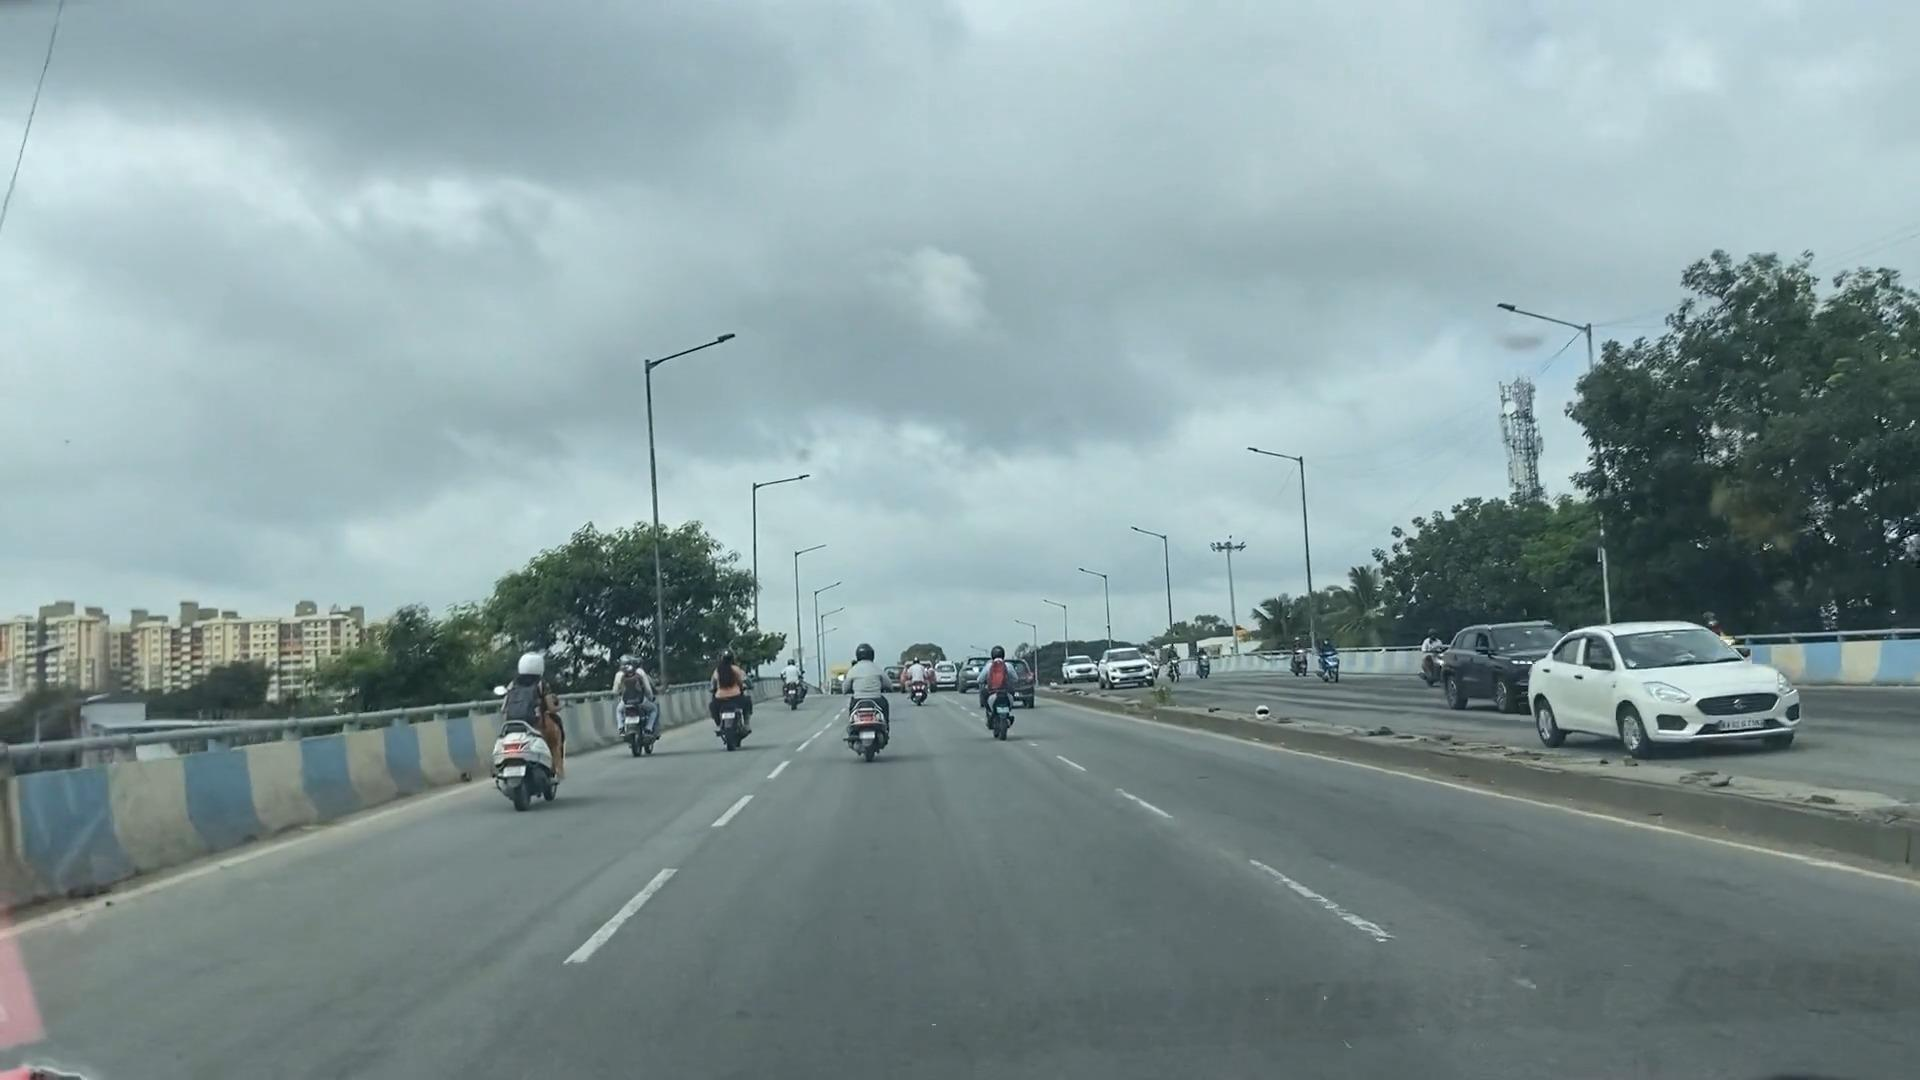LMV: (495, 654, 554, 810), (852, 634, 897, 767), (709, 651, 758, 750), (618, 655, 665, 758), (982, 642, 1025, 745), (906, 651, 939, 716), (778, 655, 808, 720)
